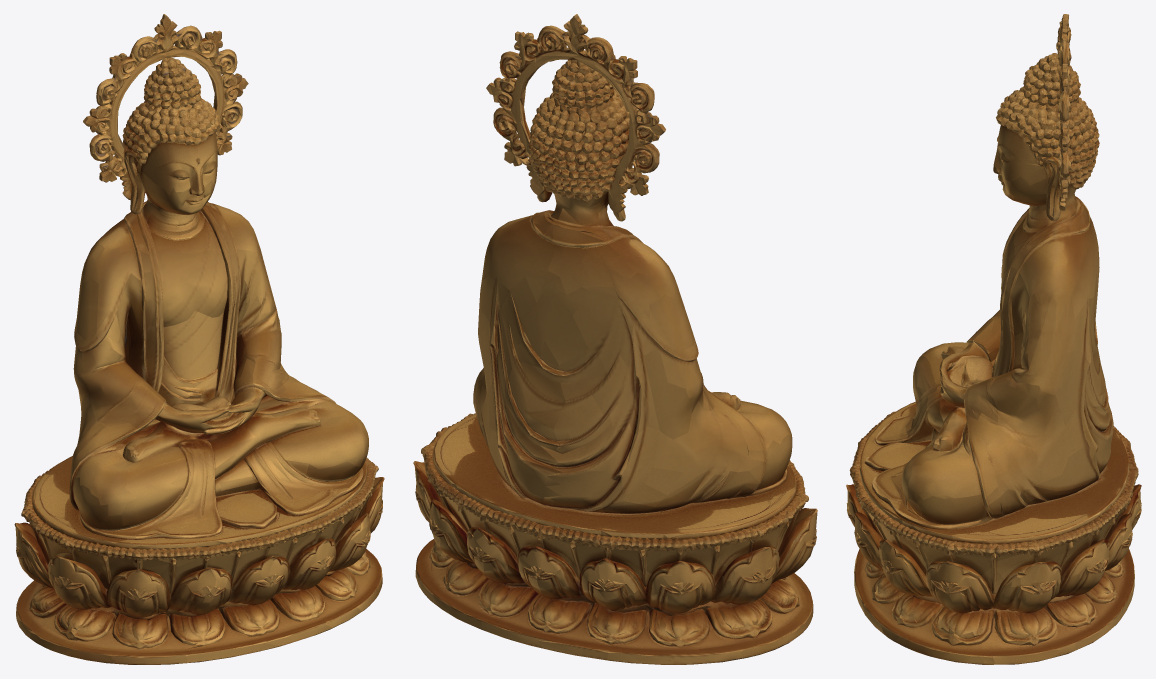
The model's file is phat-ngoi-ban-tho.glb.
3 renders of one model, left to right at view 1: azimuth 30°, elevation 25°; view 2: azimuth 150°, elevation 25°; view 3: azimuth 270°, elevation 25°, orthographic. The views are drawn at different scales.
Size of the model in its own units: 1.2 by 1.9 by 0.8956.
1 material, 1 textured.
